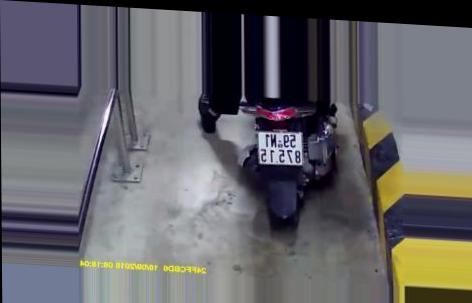License_Plate: (254, 125, 309, 173)
